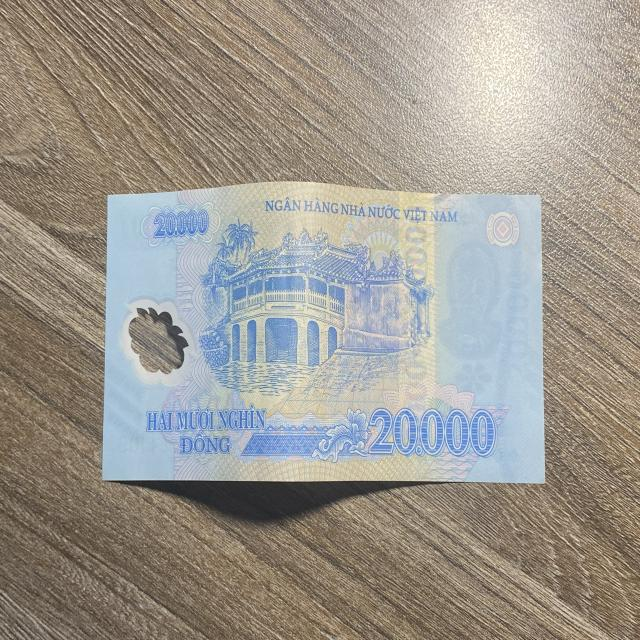20 000 VND: (101, 183, 544, 485)
